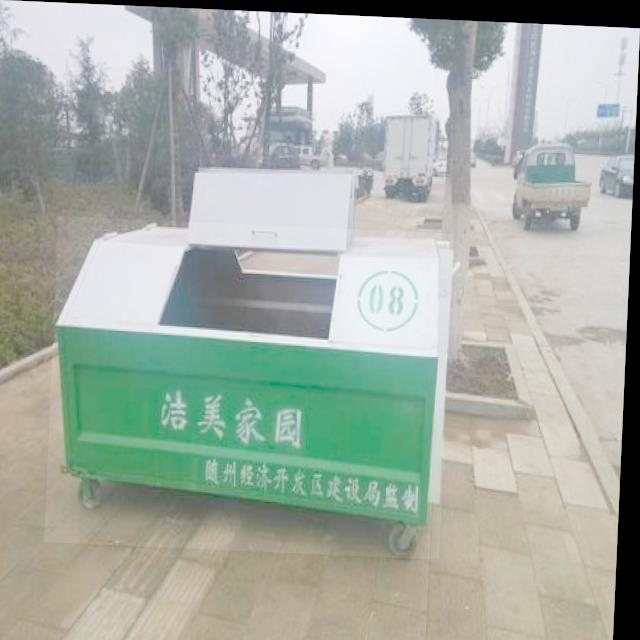garbage_bin: (49, 216, 456, 556)
